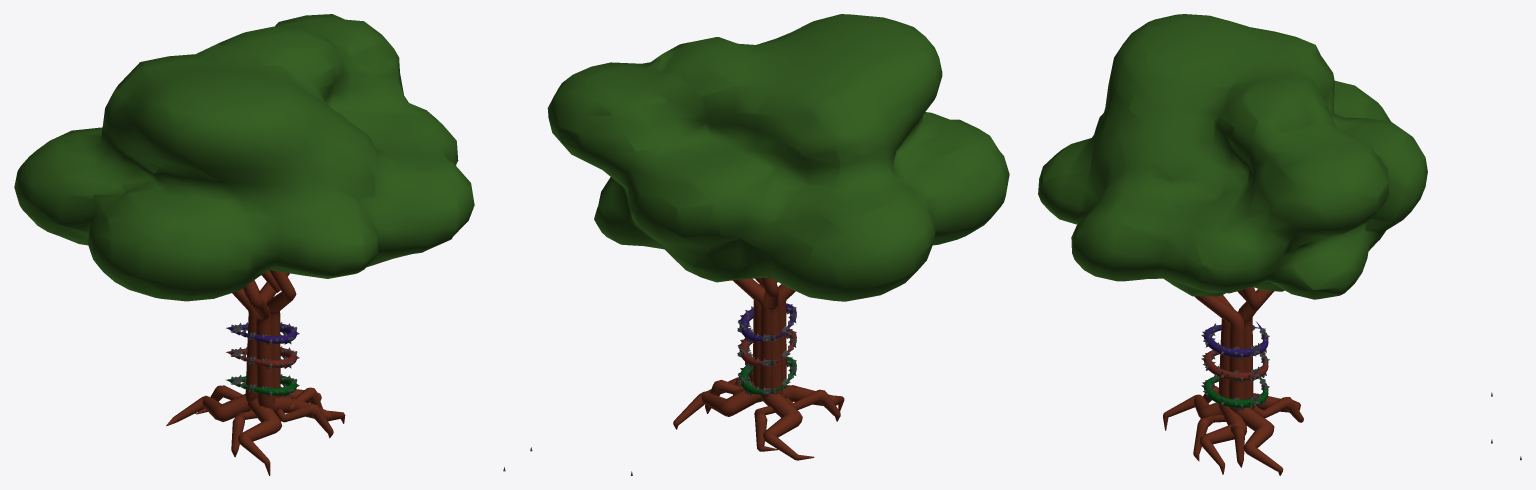
File: vine-trees.fbx
3 renders of one model, left to right at view 1: azimuth 30°, elevation 25°; view 2: azimuth 150°, elevation 25°; view 3: azimuth 270°, elevation 25°, orthographic. The views are drawn at different scales.
Visible parts, largest first — view 1: Mball.026, tree, vine blue, vine red, vine green; view 2: Mball.026, tree, vine blue, vine green, vine red; view 3: Mball.026, tree, vine blue, vine green, vine red.
Boxes of the visible parts, x1,y1,x2,y2 form: Mball.026: (14, 14, 474, 301); tree: (166, 270, 345, 475); vine blue: (226, 322, 299, 344); vine red: (226, 346, 299, 368); vine green: (226, 374, 299, 396); Mball.026: (547, 14, 1009, 301); tree: (673, 248, 844, 460); vine blue: (737, 303, 796, 343); vine green: (737, 356, 796, 396); vine red: (737, 329, 796, 367); Mball.026: (1038, 14, 1427, 299); tree: (1163, 287, 1303, 475); vine blue: (1201, 321, 1269, 359); vine green: (1201, 375, 1269, 410); vine red: (1201, 345, 1269, 383).
Size of the model in its own units: 604 by 603 by 693.
